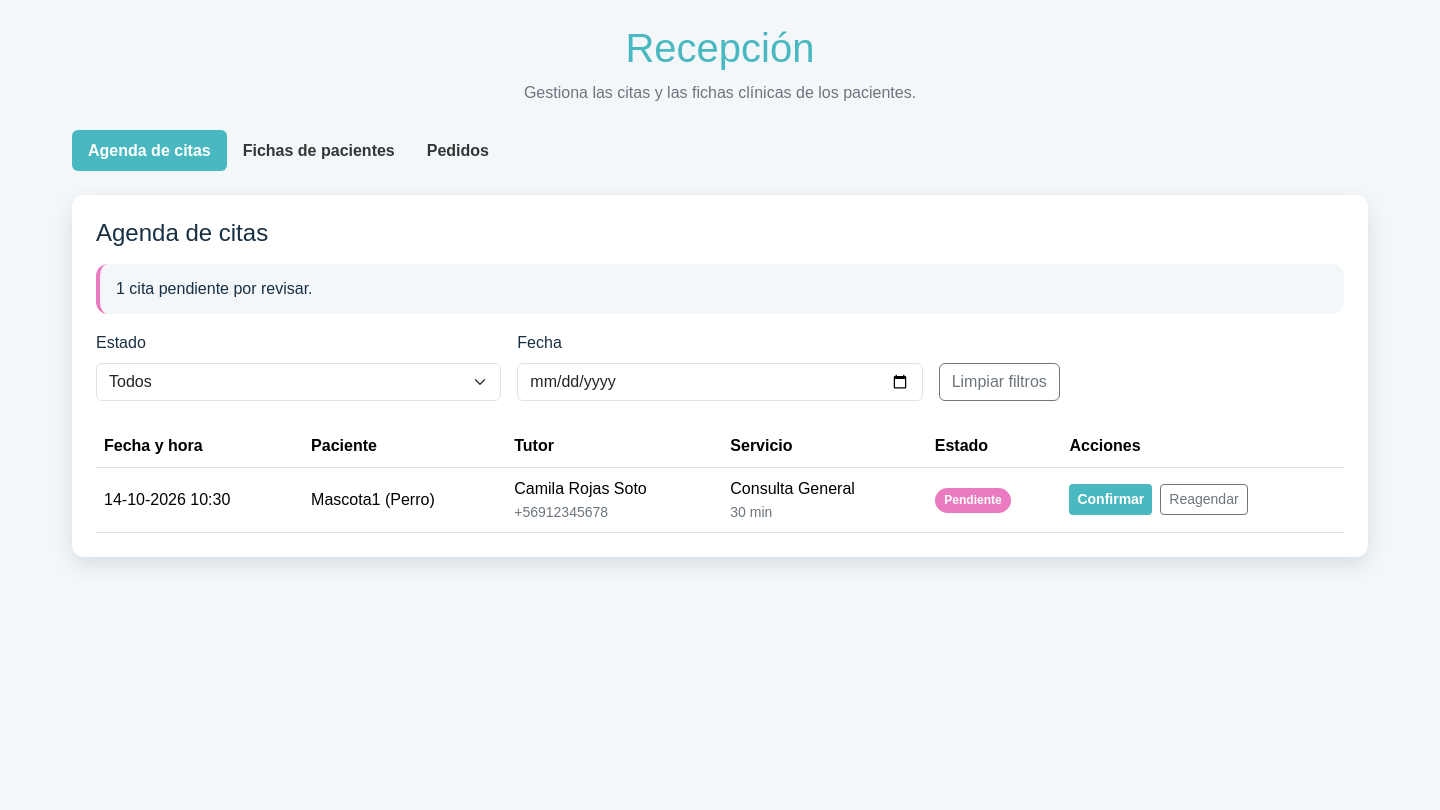
Scenario: AgendaCitas › reagendar › no cambia la cita si se cancela el reagendamiento
This screenshot has width=1440, height=810.
Click the button "Reagendar" at (1204, 500), box [1160,484,1248,515]
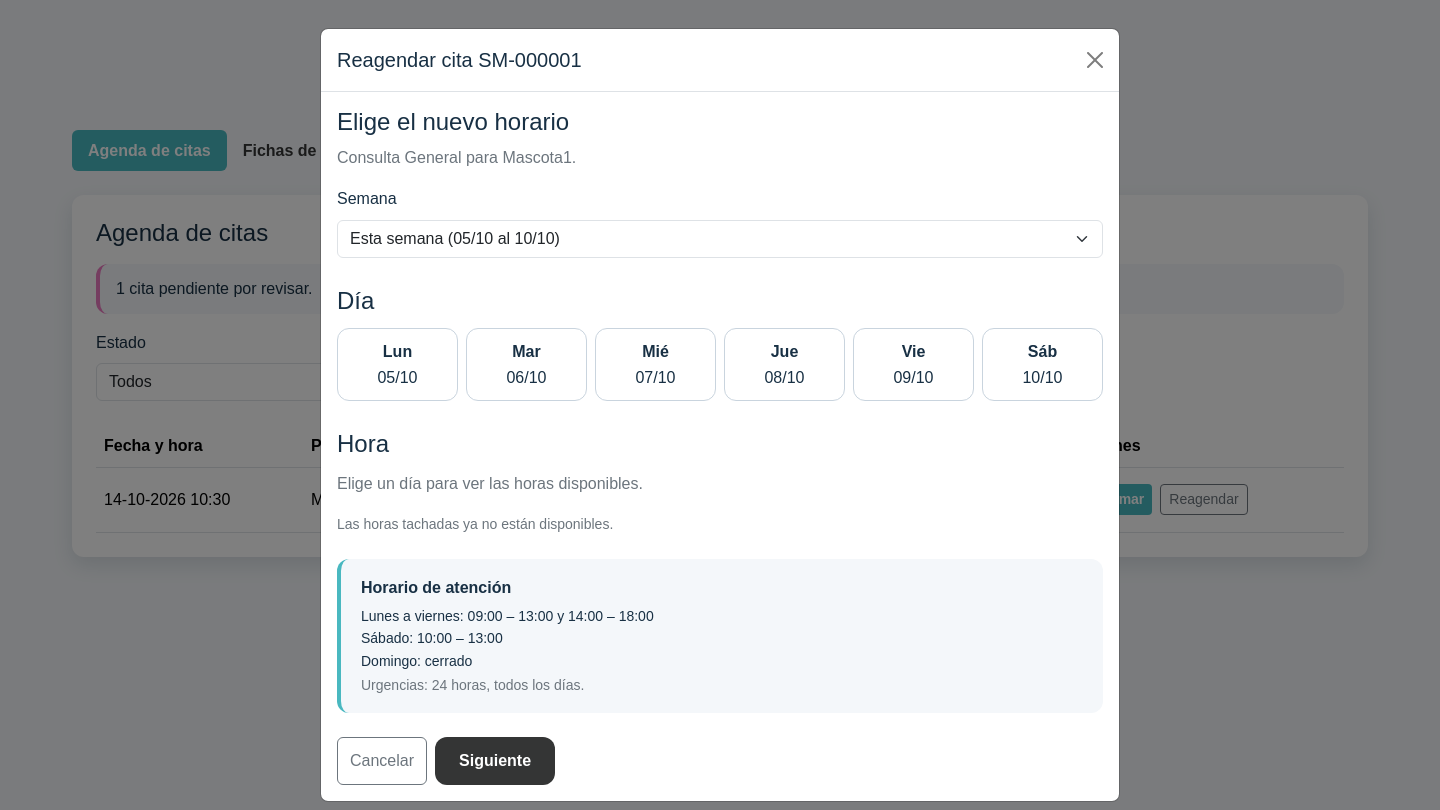
Click the button "Cancelar" at (382, 762), box [337,738,427,786]
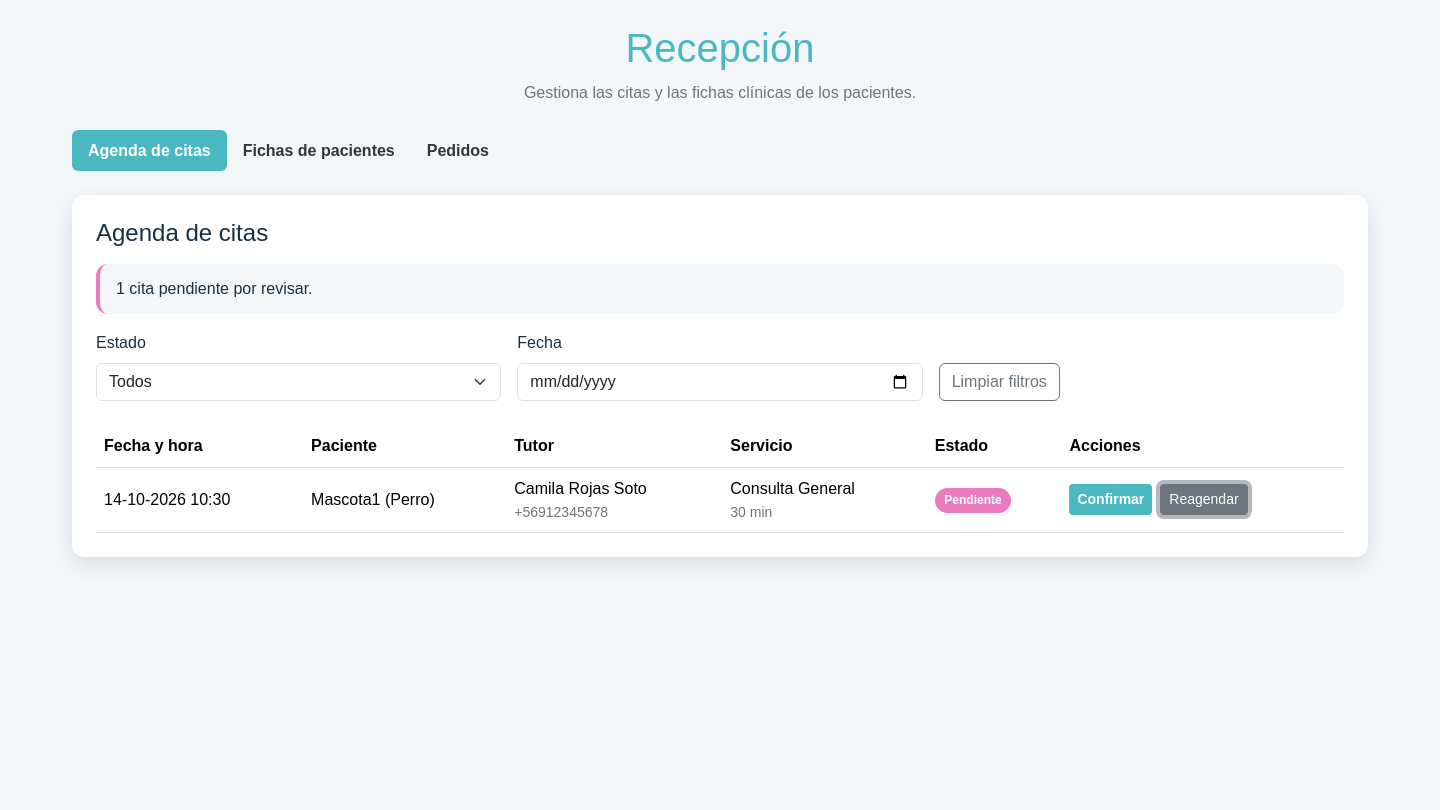
Expected: the heading "Reagendar cita" is gone
